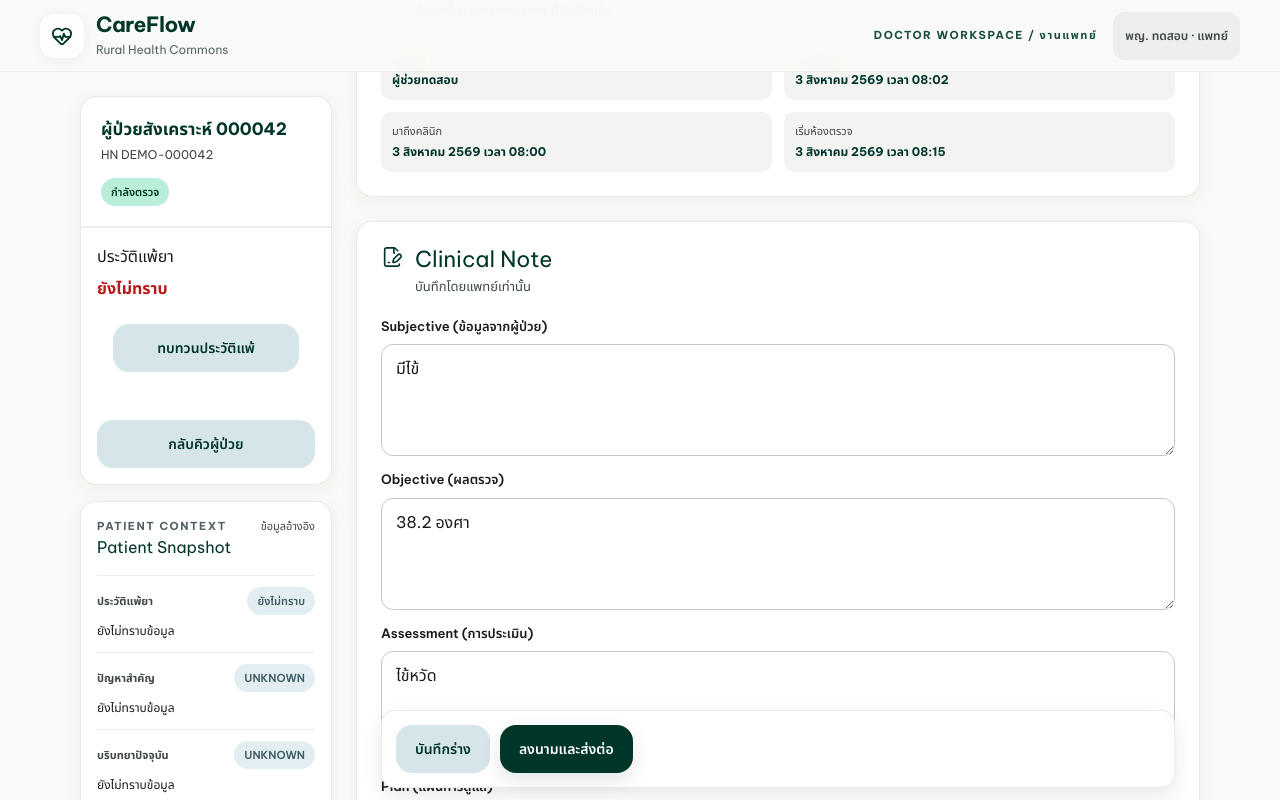
Test: Doctor consultation authoring › requires the latest local edits to be saved before signing persisted drafts
(page scrolled)
Expected: the button "ลงนามและส่งต่อ" is enabled, x1=500 y1=725 x2=633 y2=773
Step 1. Type " และไอมากขึ้น" into the text box labelled "Subjective (ข้อมูลจากผู้ป่วย)" → (778, 400), box x1=381 y1=344 x2=1175 y2=456
(page scrolled)
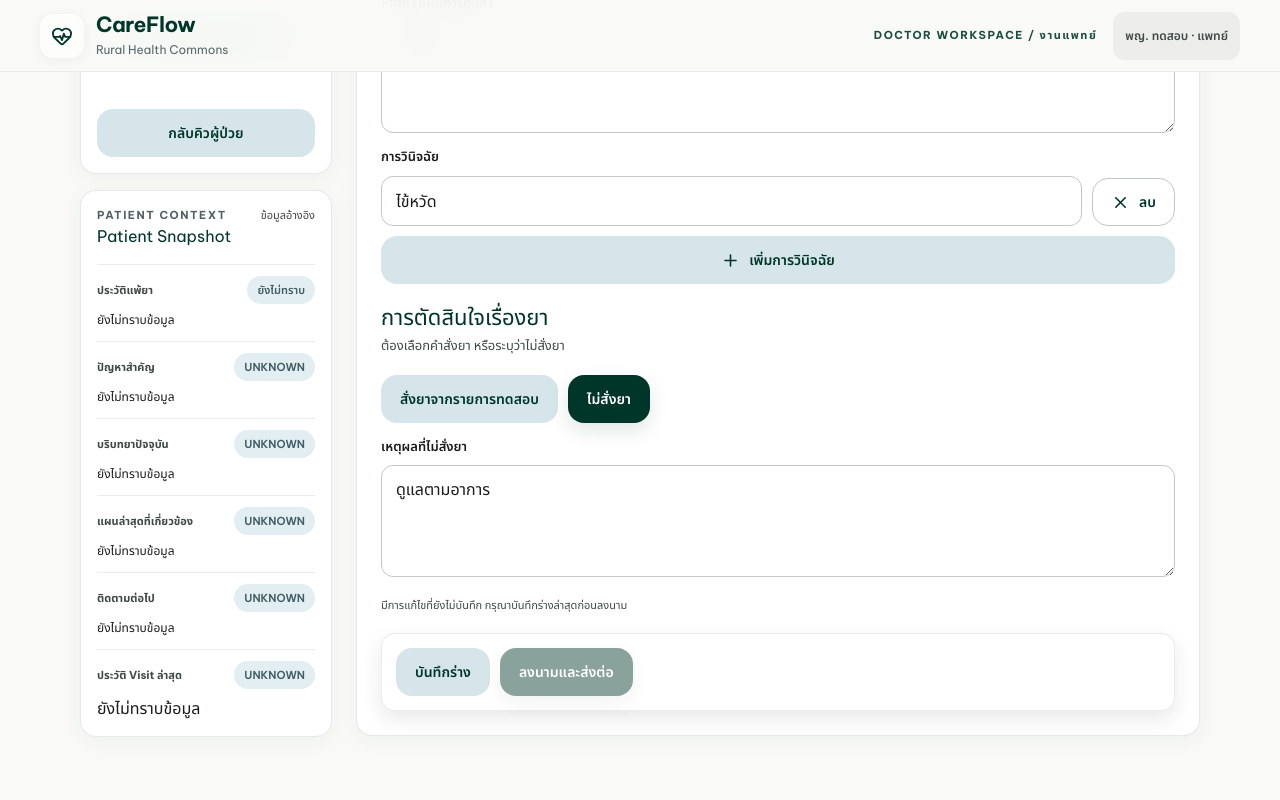
Result: the button "ลงนามและส่งต่อ" is disabled at x1=500 y1=648 x2=633 y2=696
Result: the text "มีการแก้ไขที่ยังไม่บันทึก กรุณาบันทึกร่างล่าสุดก่อนลงนาม" is shown at x1=381 y1=598 x2=627 y2=612
